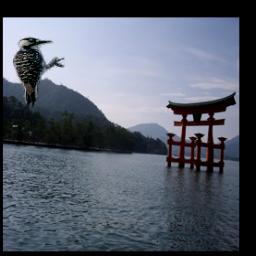Woodpecker: (11, 37, 65, 108)
